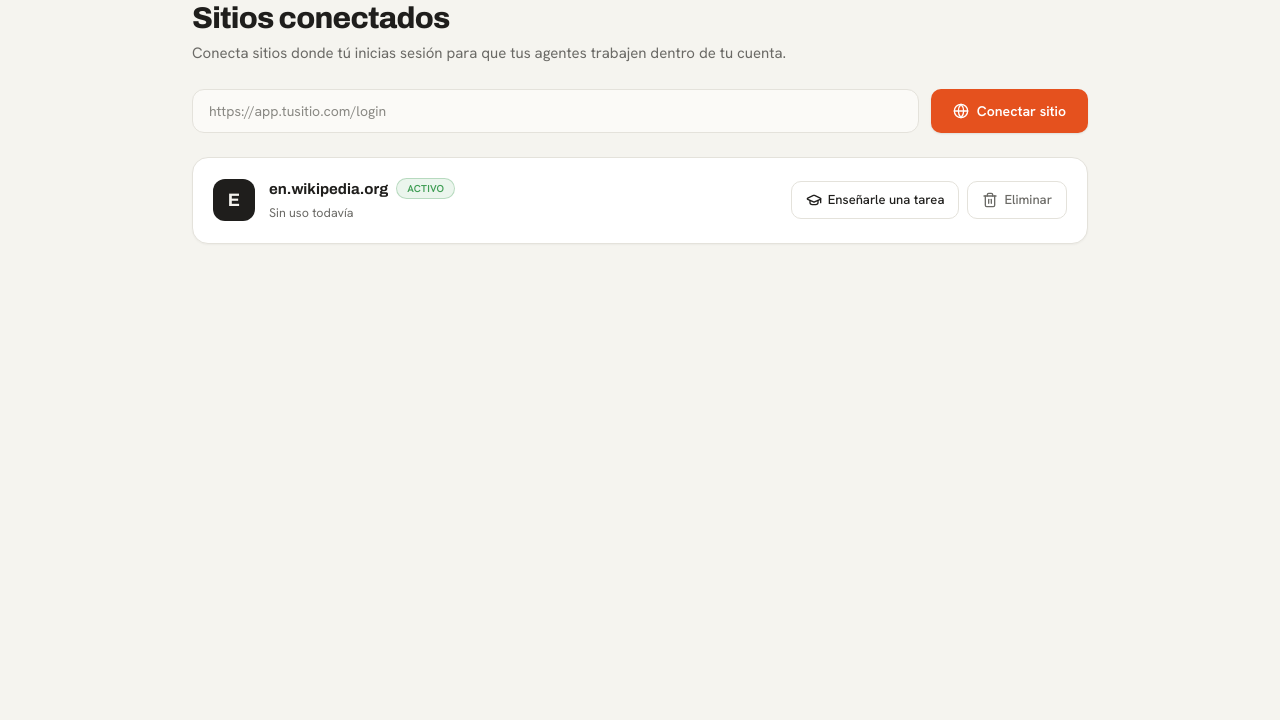
Test case: SitiosConectadosPage: una sola accion de eliminar por fila › al aceptarse el borrado, la fila desaparece DE INMEDIATO y no queda ningun mensaje de error
What coordinates should you click on to do the following:
click the button with aria-label "Eliminar la conexión con en.wikipedia.org"
I would click on:
 (1017, 200)
Its box is [968,181,1067,219].
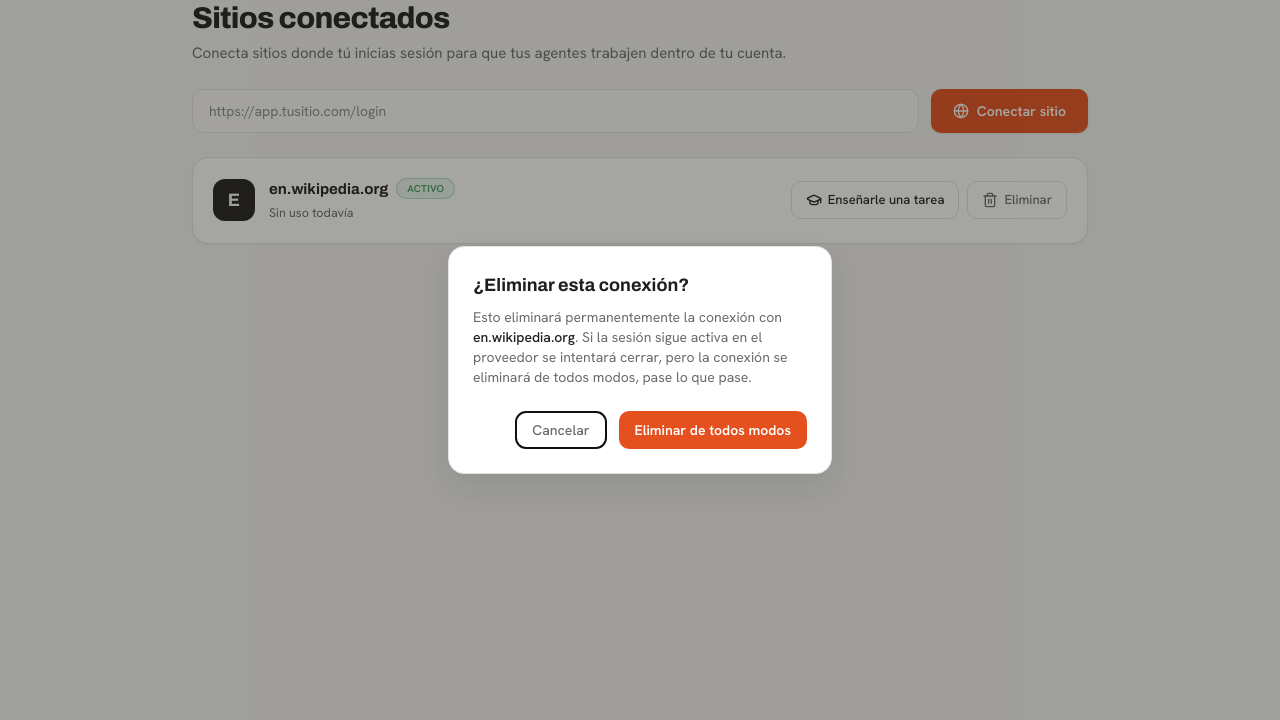
What coordinates should you click on to do the following:
click the button "Eliminar de todos modos"
I would click on:
 (713, 430)
Its box is [618,411,807,449].
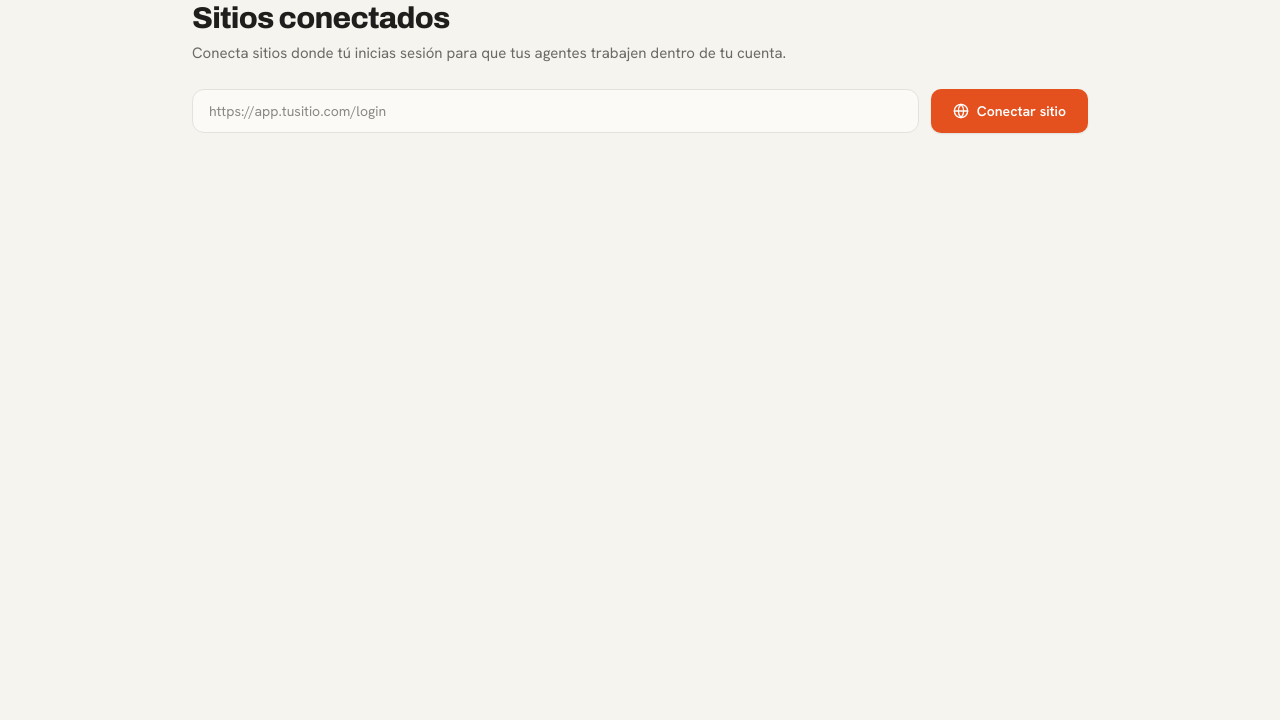
Check: the heading "en.wikipedia.org" is gone
Check: the dialog is gone
